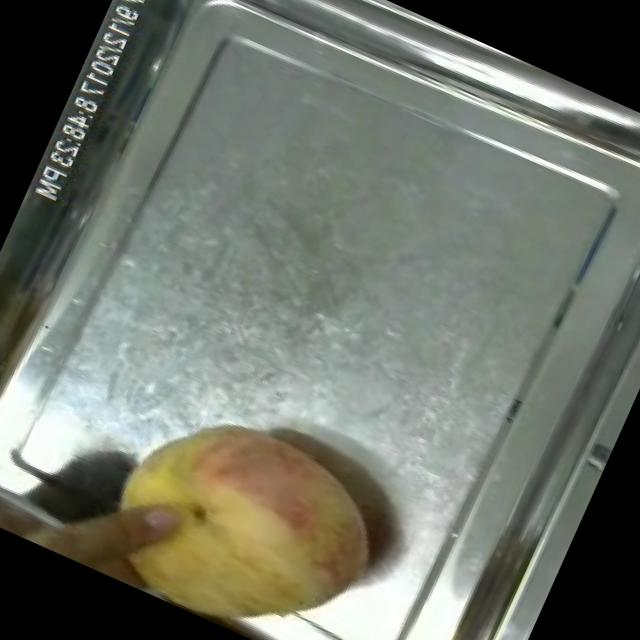Fruit: (72, 368, 413, 640)
